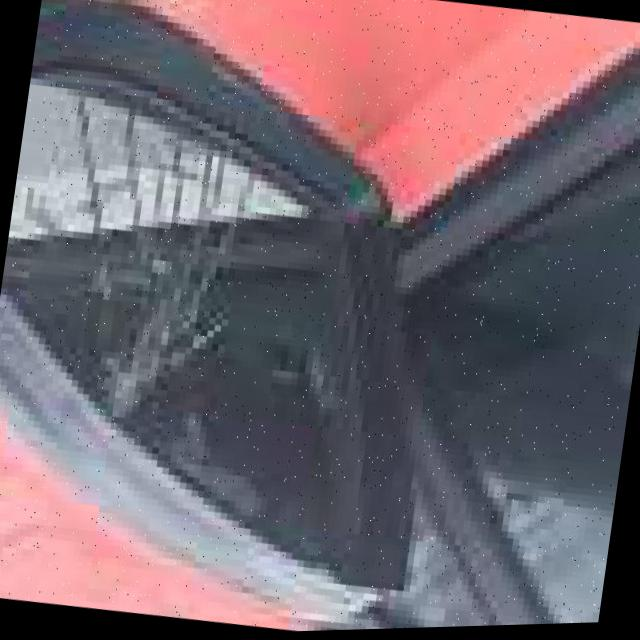Glass_Break: (0, 3, 496, 640)
